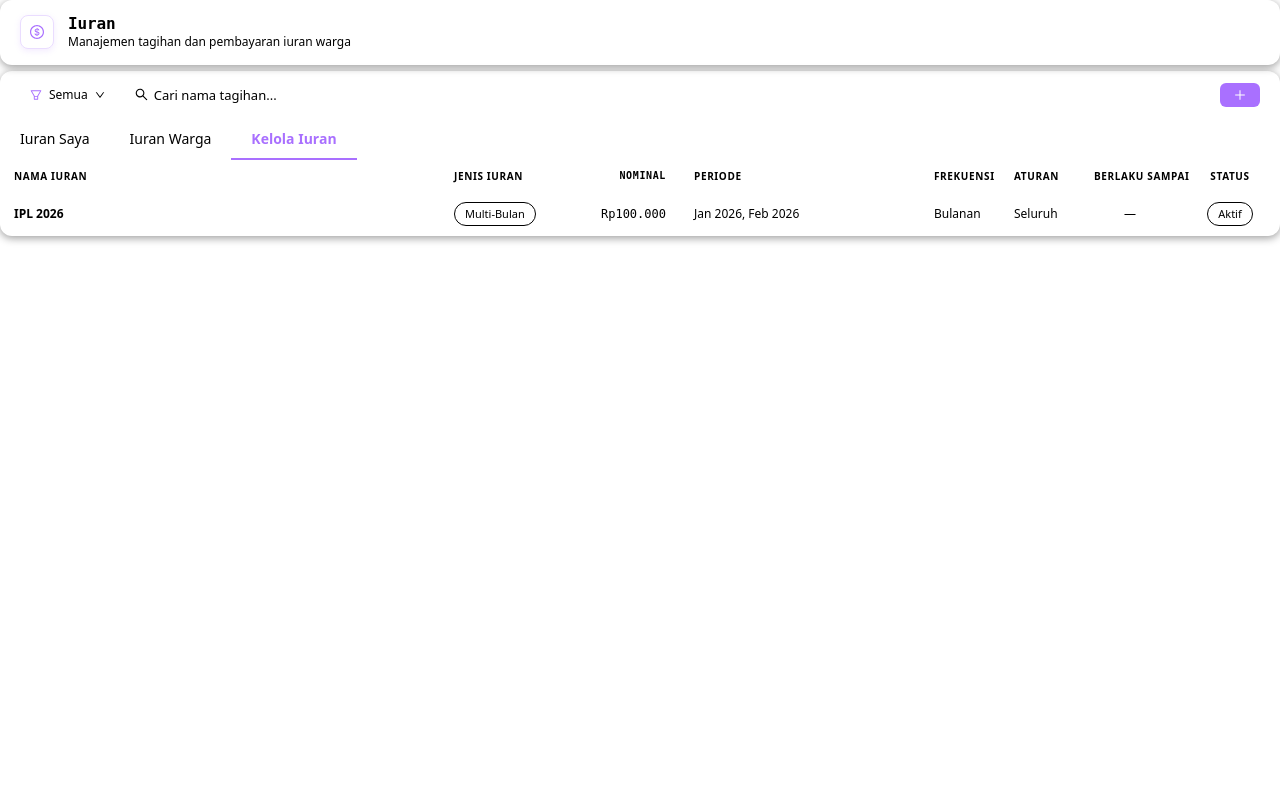
Test: IuranList — Multi-Month Period Status (Web Bug B) › displays API error when month status update fails and keeps modal open
Click the text "IPL 2026".
click(39, 213)  # box [14, 205, 64, 222]
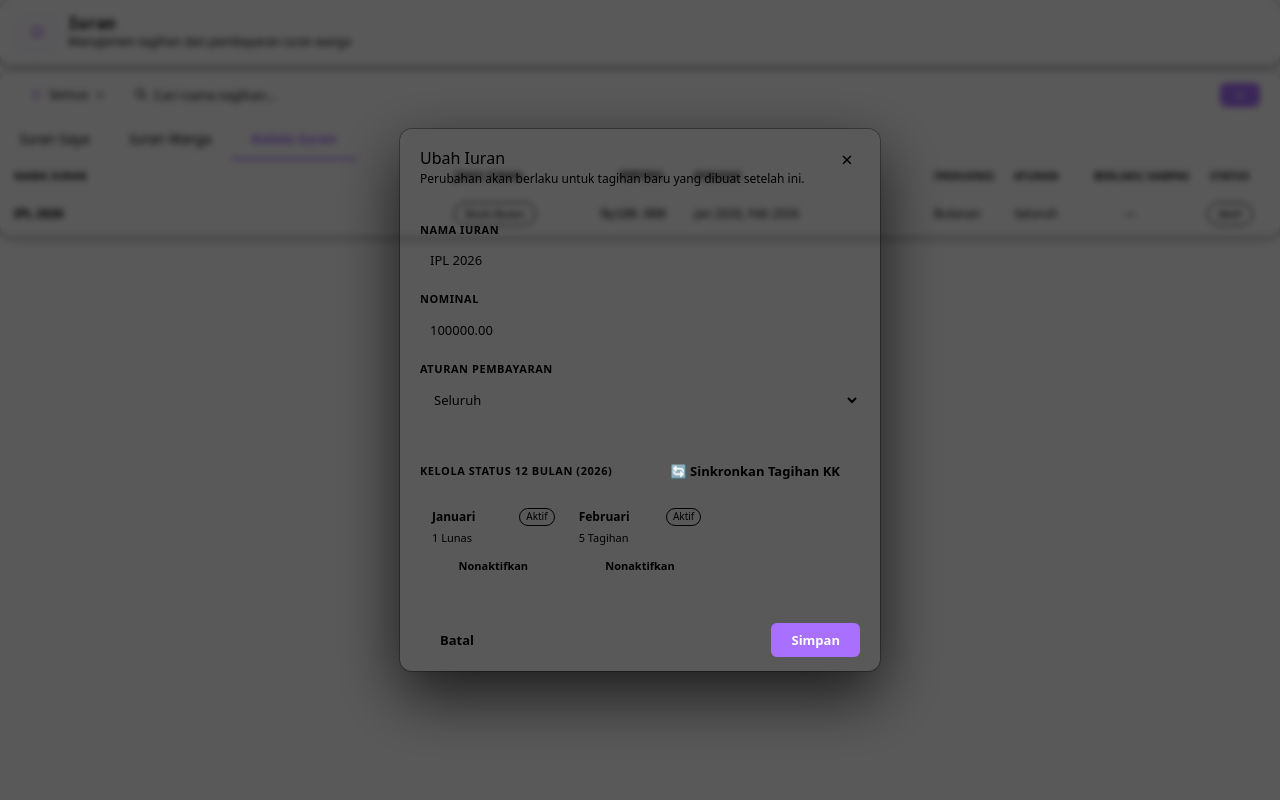
Result: the text "Januari" is shown at [432, 509, 475, 525]
Click the button "Nonaktifkan" below "1 Lunas".
click(493, 565)  # box [432, 553, 555, 577]
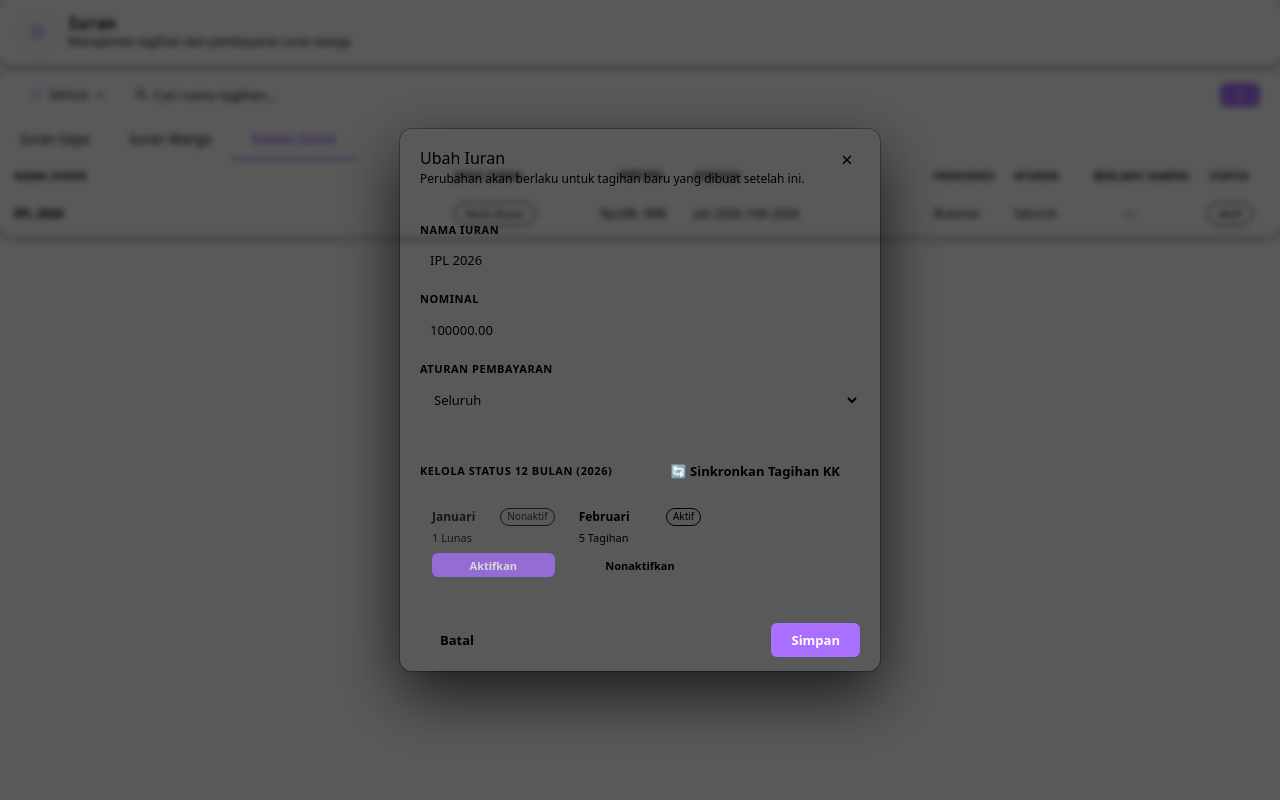
Click the button "Simpan".
click(816, 640)  # box [772, 623, 860, 657]
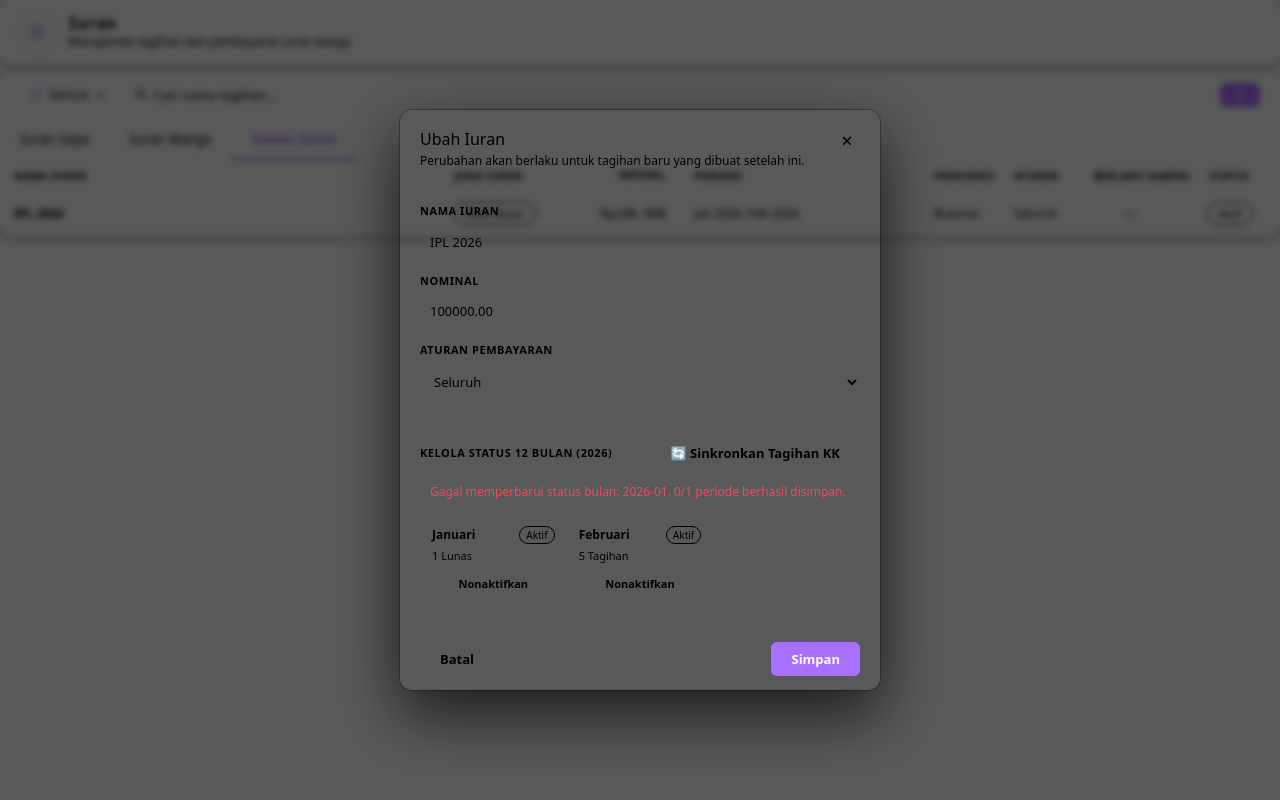
Result: the text "Kelola Status 12 Bulan (2026)" is shown at [420, 445, 612, 460]
Result: the text "Gagal memperbarui status bulan" is shown at [430, 483, 846, 500]
